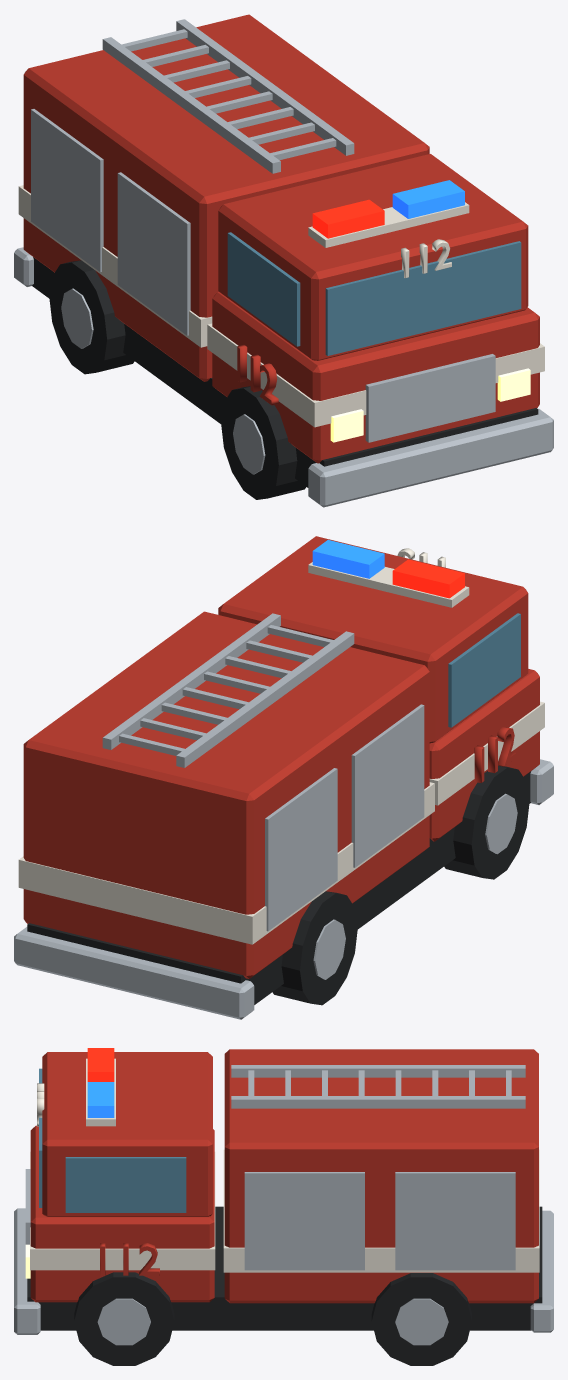
File: firetruck.glb
3 renders of one model, top to bottom at view 1: azimuth 30°, elevation 25°; view 2: azimuth 150°, elevation 25°; view 3: azimuth 270°, elevation 25°, orthographic. The views are drawn at different scales.
Visible parts, largest first — view 1: firetruck; view 2: firetruck; view 3: firetruck.
Part boxes in pixels (box(x1,y1,x2,y2)): firetruck: box(14, 14, 553, 507); firetruck: box(14, 536, 553, 1019); firetruck: box(14, 1048, 553, 1365).
Bounding box in the file's own units: 1.52 × 1.56 × 3.23.
